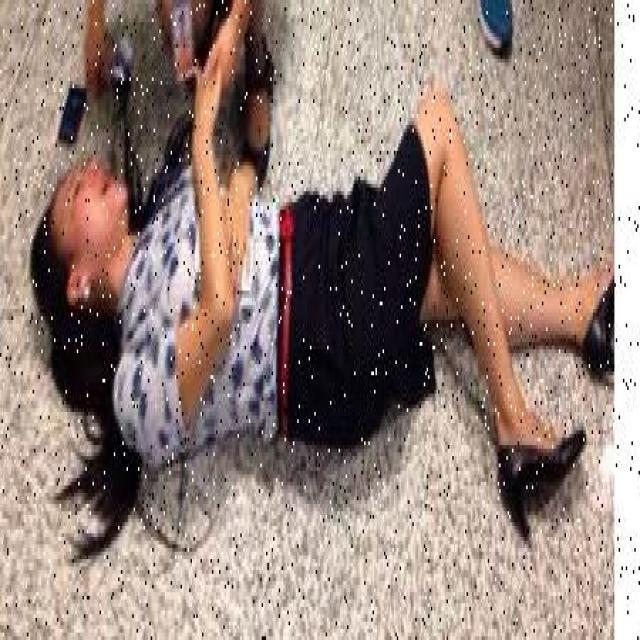fall: (32, 78, 608, 530)
